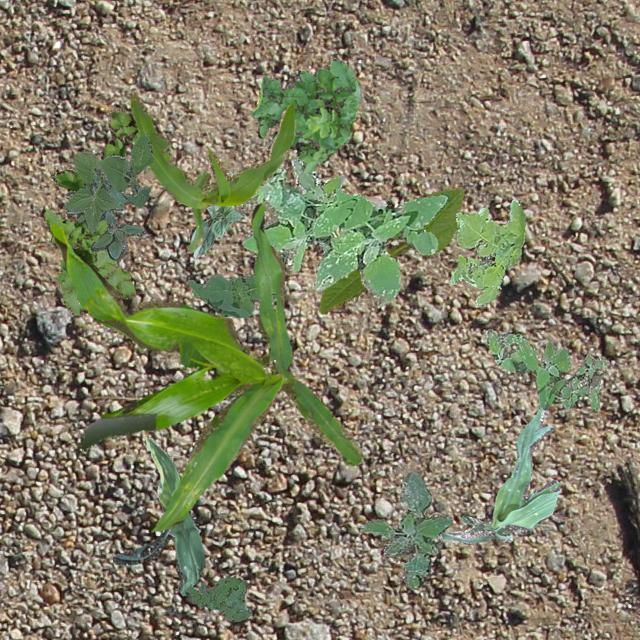crop: (48, 204, 362, 530), (130, 93, 294, 251), (318, 188, 462, 312), (438, 407, 560, 542), (112, 436, 204, 594), (188, 204, 244, 258)
weed: (226, 166, 448, 306), (44, 106, 138, 314), (250, 56, 360, 172), (361, 468, 452, 588), (486, 328, 608, 410), (61, 132, 152, 232), (448, 198, 524, 304), (186, 250, 288, 316), (64, 190, 144, 260), (290, 156, 342, 252), (186, 574, 250, 620)
